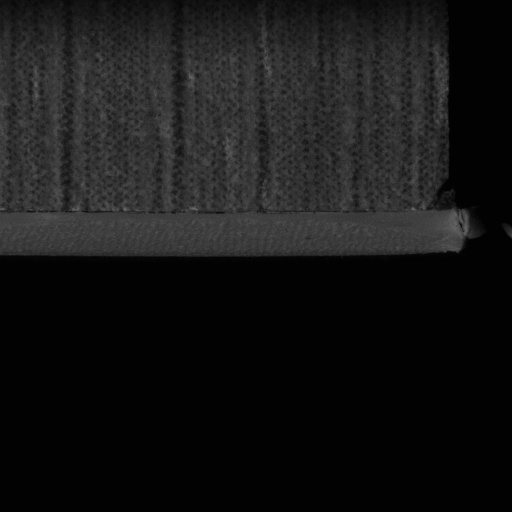bengque: (428, 178, 462, 214)
